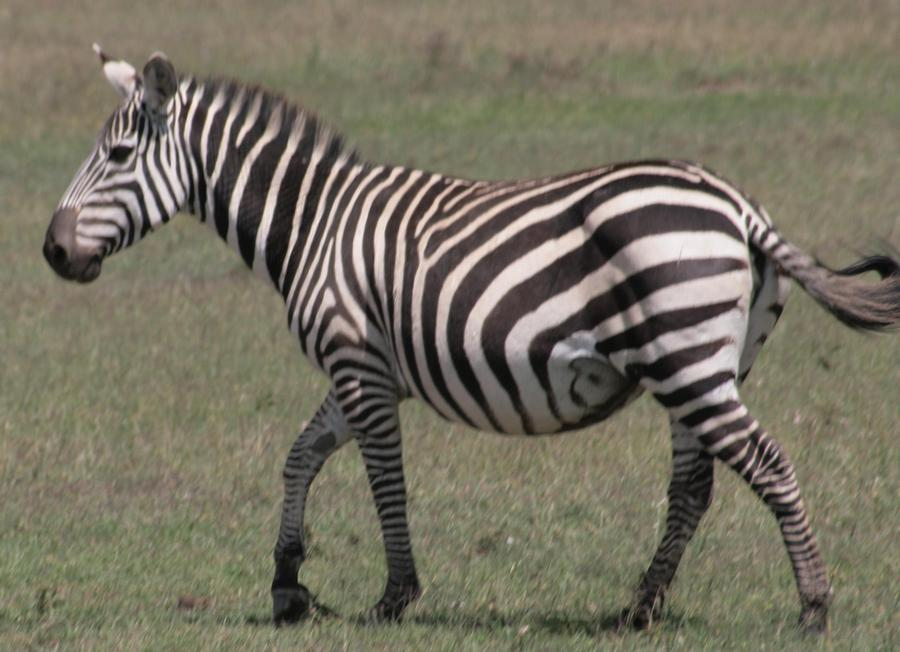zebra_plains: (311, 155, 731, 418)
